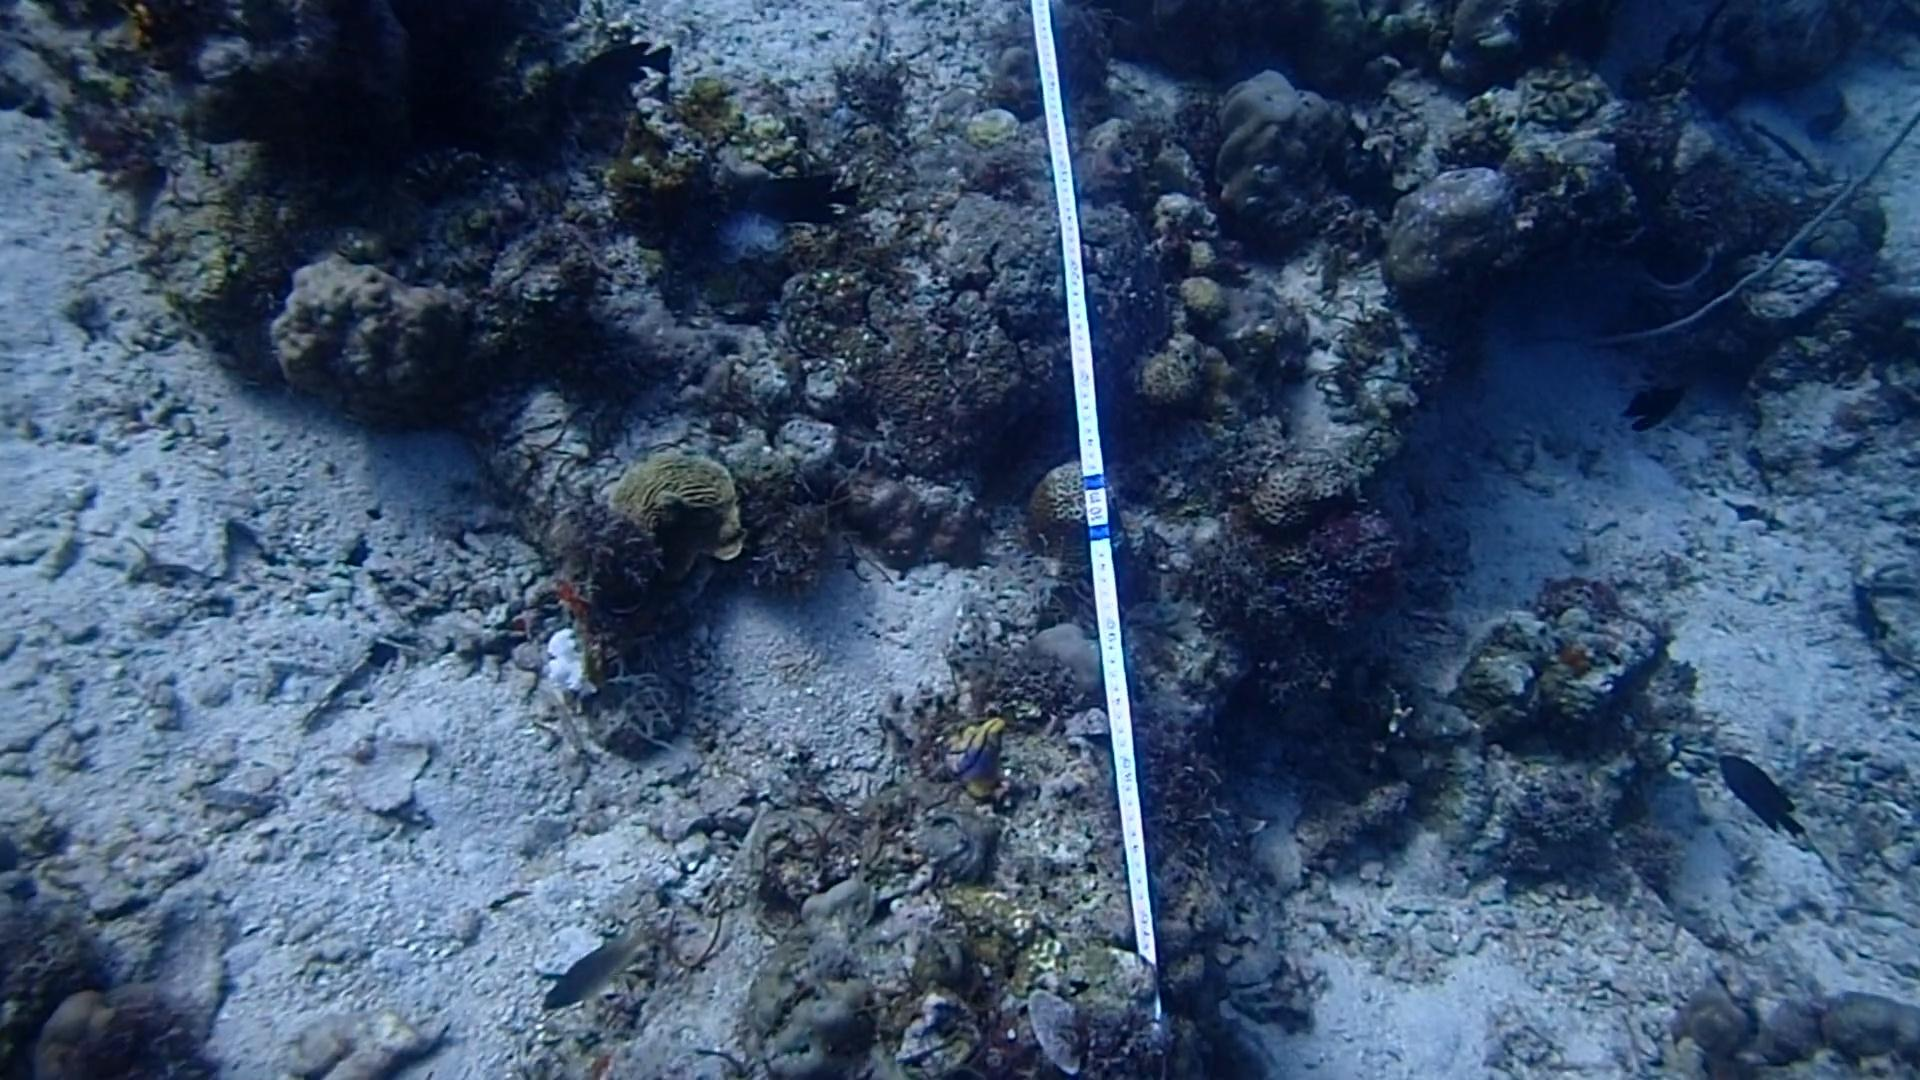Dark Fish: (1708, 740, 1811, 852), (744, 161, 860, 228), (568, 36, 674, 107), (1617, 367, 1692, 448)
Light Fish: (529, 919, 659, 1010)
